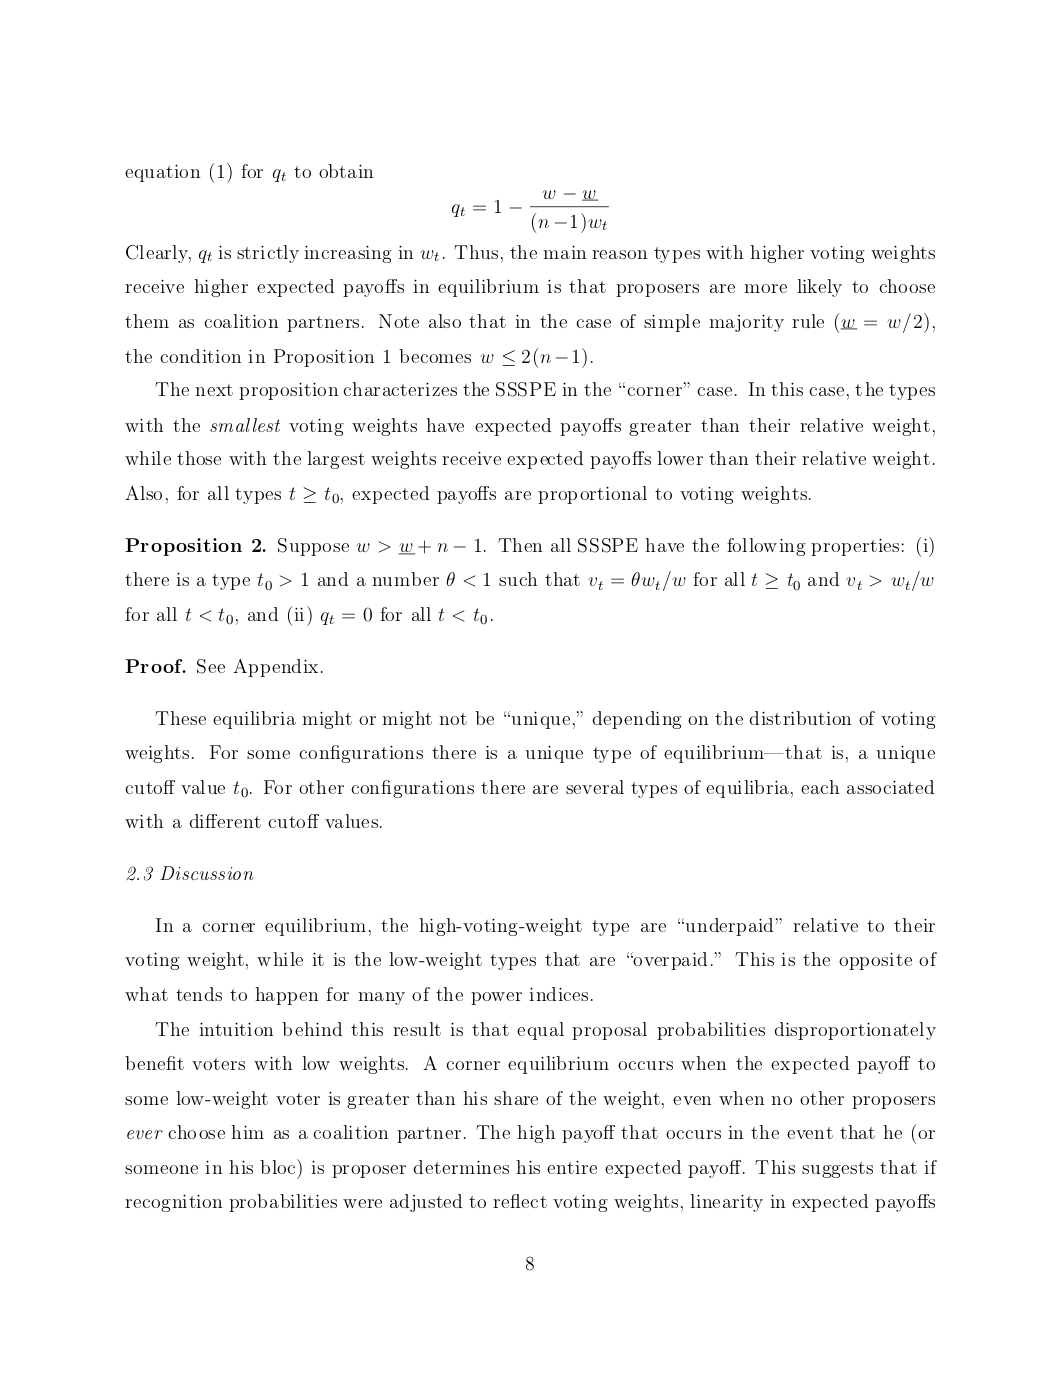formula: (451, 189, 609, 233)
